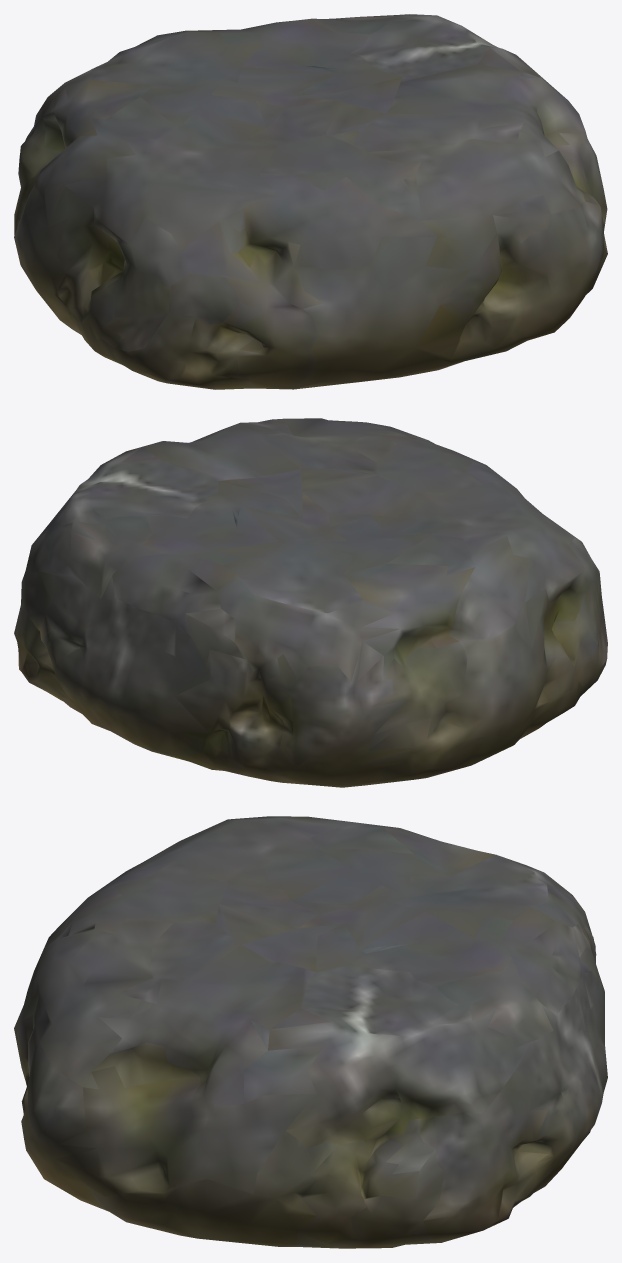
Rendered from creek_rock.glb.
The picture shows the model from 3 angles, top to bottom: view 1: azimuth 30°, elevation 25°; view 2: azimuth 150°, elevation 25°; view 3: azimuth 270°, elevation 25°; orthographic projection. The views are drawn at different scales.
Parts seen in each view (by area): view 1: LO.001; view 2: LO.001; view 3: LO.001.
Part boxes in pixels (x1=…): LO.001: x1=14, y1=14, x2=607, y2=389; LO.001: x1=14, y1=418, x2=607, y2=787; LO.001: x1=14, y1=816, x2=607, y2=1248.
Bounding box in the file's own units: 1.5 × 0.5556 × 1.37.
1 material, 1 textured.
